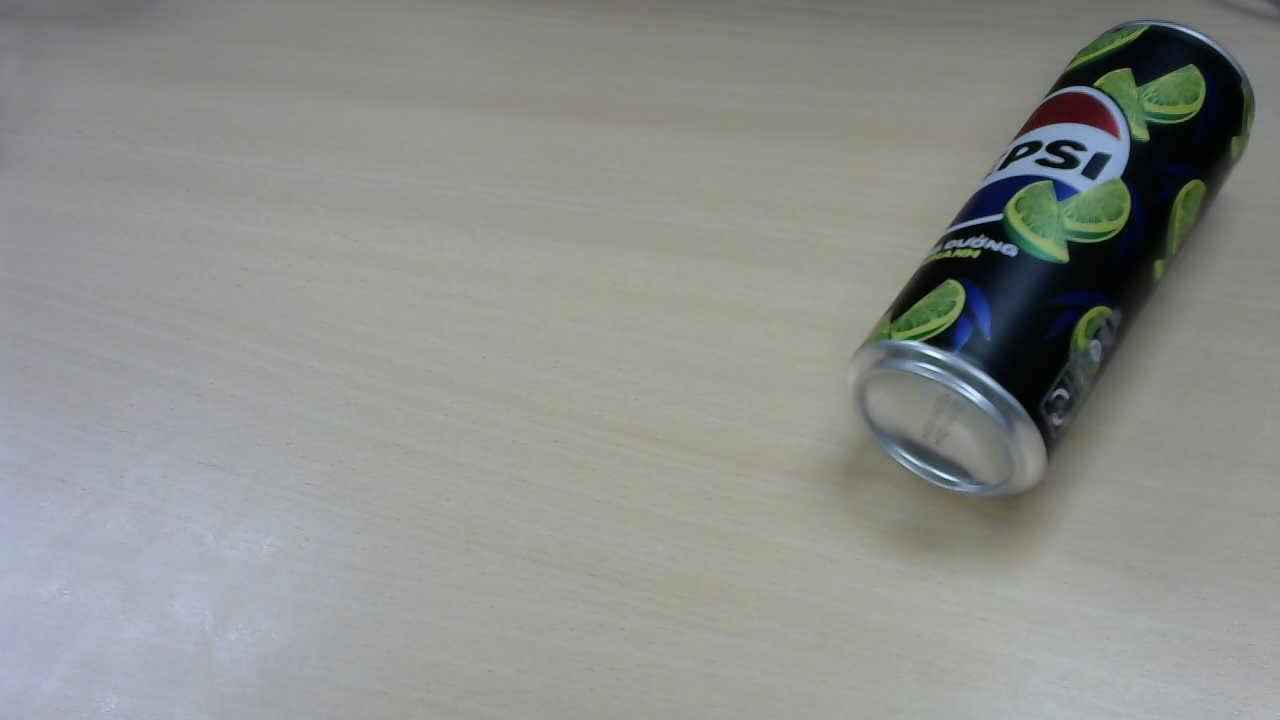Pepsi: (853, 26, 1258, 500)
